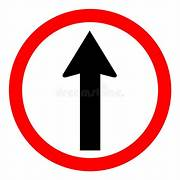forward: (8, 9, 171, 171)
